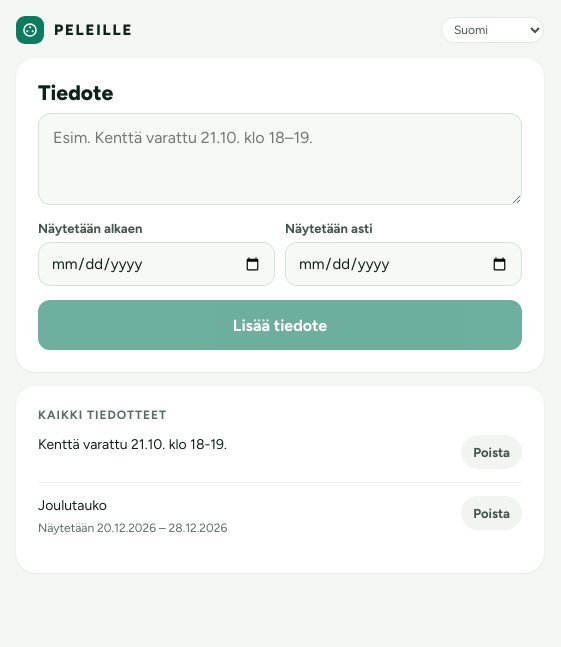
the unlisted announcements page › asks before removing, and the first tap removes nothing
Expected: the text "Joulutauko" is shown, [38, 497, 107, 514]
Click the button "Poista" in the row of "Näytetään 20.12.2026 – 28.12.2026": (492,513) [461, 496, 522, 530]
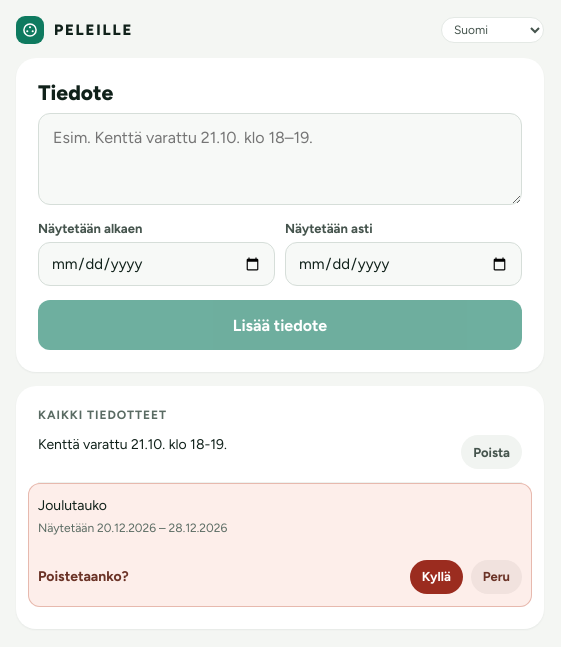
Expected: the button "Kyllä" is shown, [410, 560, 463, 594]
